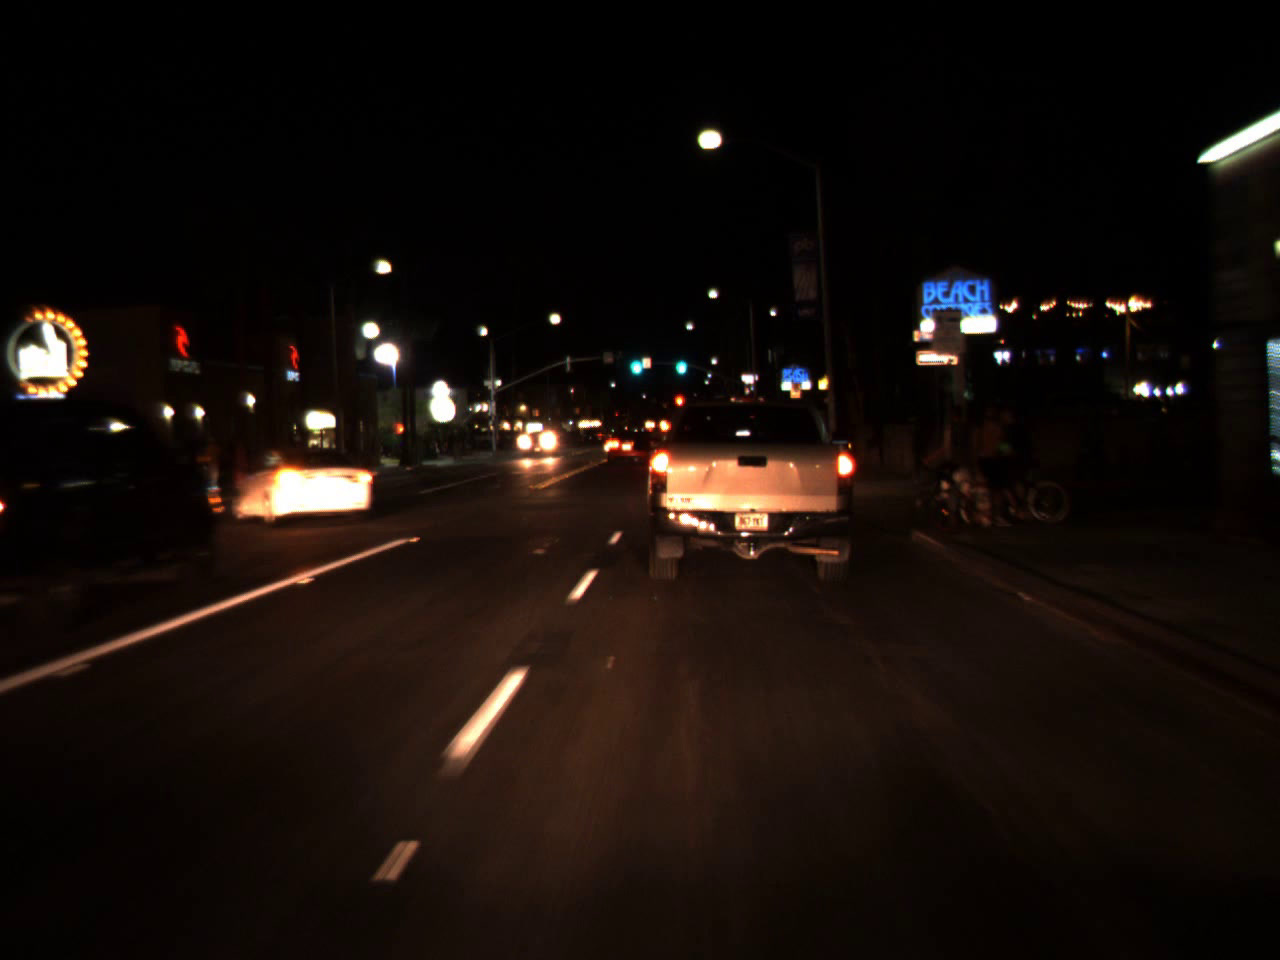go: (625, 344, 644, 380), (671, 345, 689, 378)
